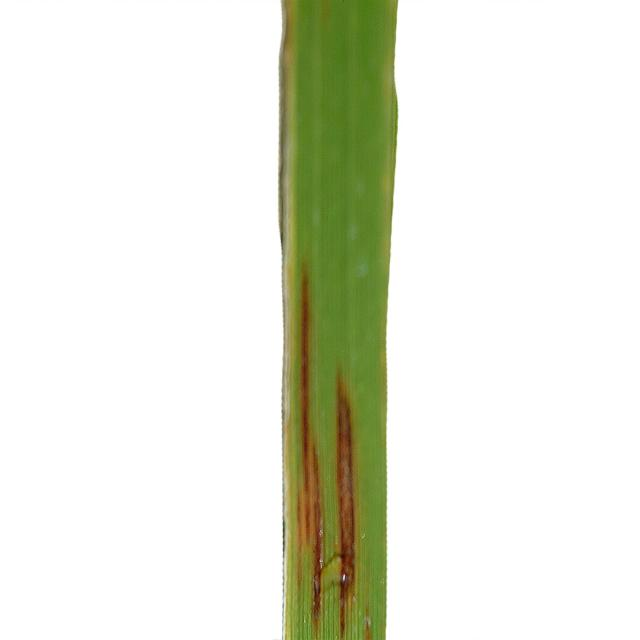Narrow brown: (231, 1, 435, 640)
